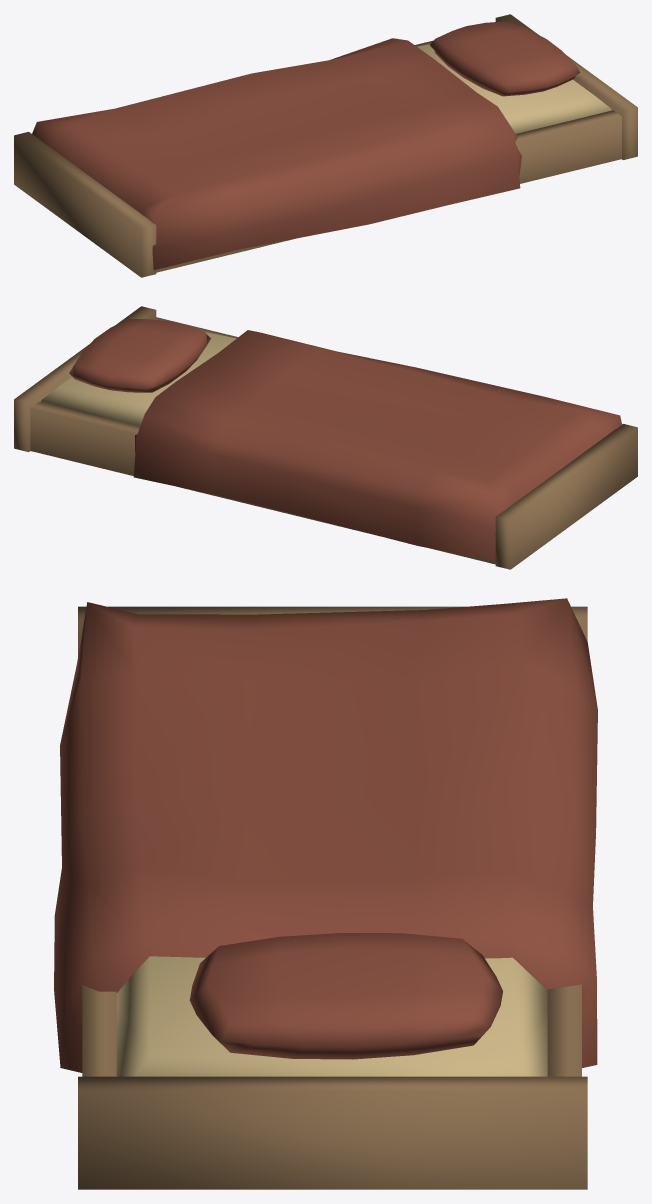
Rendered from rpgpp_ag_bed_02c.fbx.
3 views of the same model, one above another, from view 1: azimuth 30°, elevation 25°; view 2: azimuth 150°, elevation 25°; view 3: azimuth 270°, elevation 25° (orthographic). The views are drawn at different scales.
Parts seen in each view (by area): view 1: rpgpp_ag_bed_02c; view 2: rpgpp_ag_bed_02c; view 3: rpgpp_ag_bed_02c.
Boxes of the visible parts, box(x1,y1,x2,y2) form: rpgpp_ag_bed_02c: box(14, 14, 637, 277); rpgpp_ag_bed_02c: box(14, 306, 637, 569); rpgpp_ag_bed_02c: box(54, 598, 597, 1189).
Bounding box in the file's own units: 2.58 × 0.3815 × 1.22.
